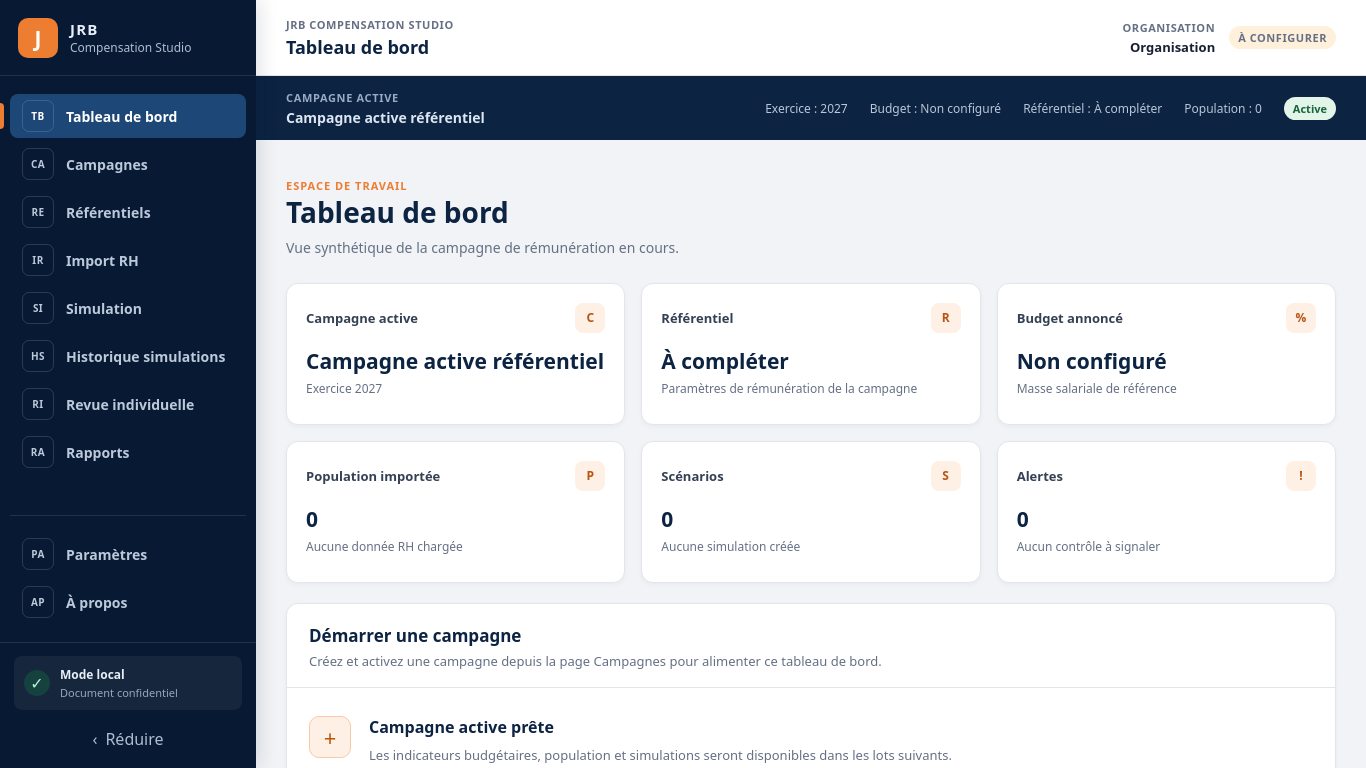
it: référentiels — interface › sélectionne la campagne active par défaut
The width and height of the screenshot is (1366, 768).
Expected: the navigation bar named "Navigation principale" is shown, [0, 76, 256, 642]
Step 1. Click the button "RE Référentiels" → (128, 212), box [10, 190, 246, 234]
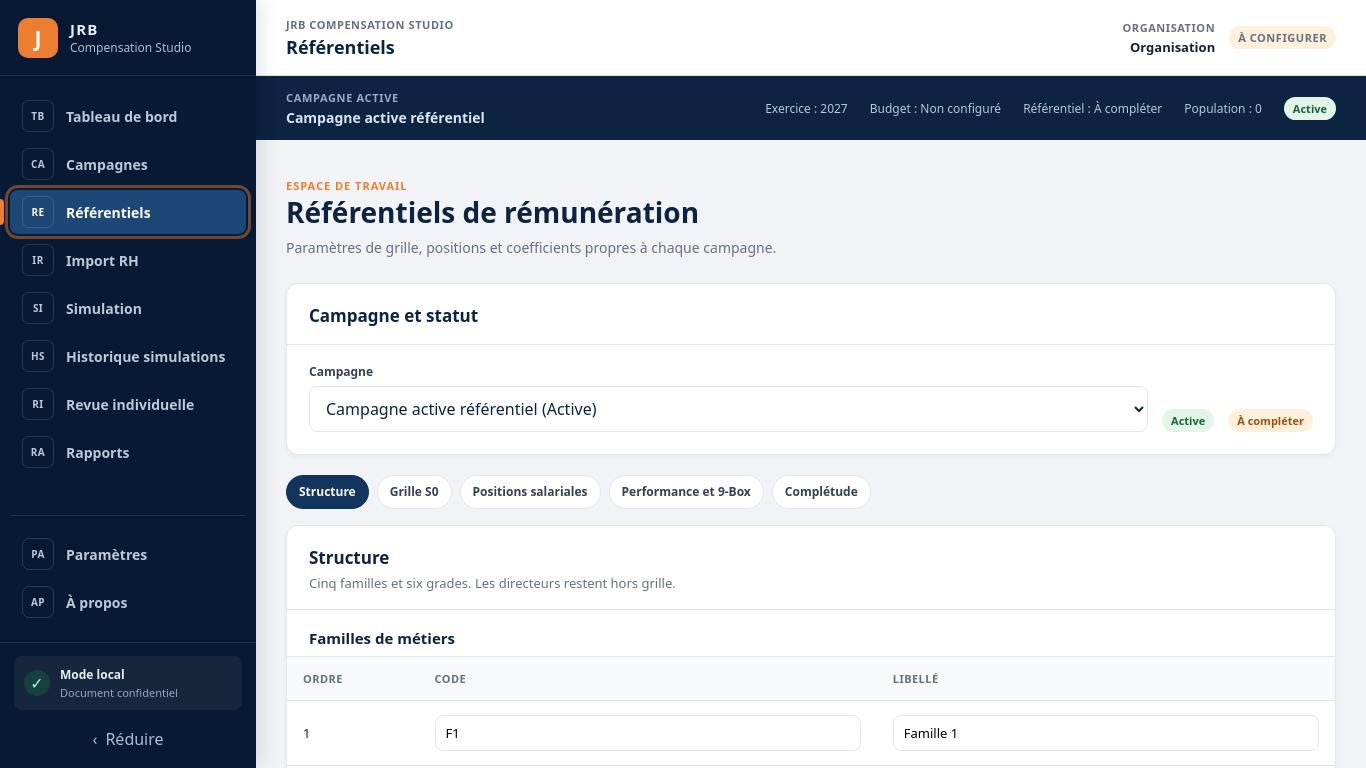
Result: the dropdown with test id "references-campaign-select" shows "Campagne active référentiel (Active)" at [309, 386, 1148, 432]
